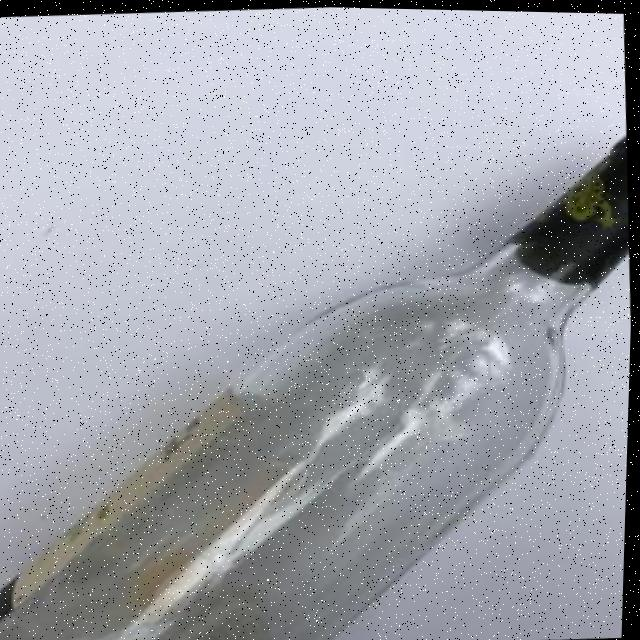glass: (0, 107, 638, 640)
